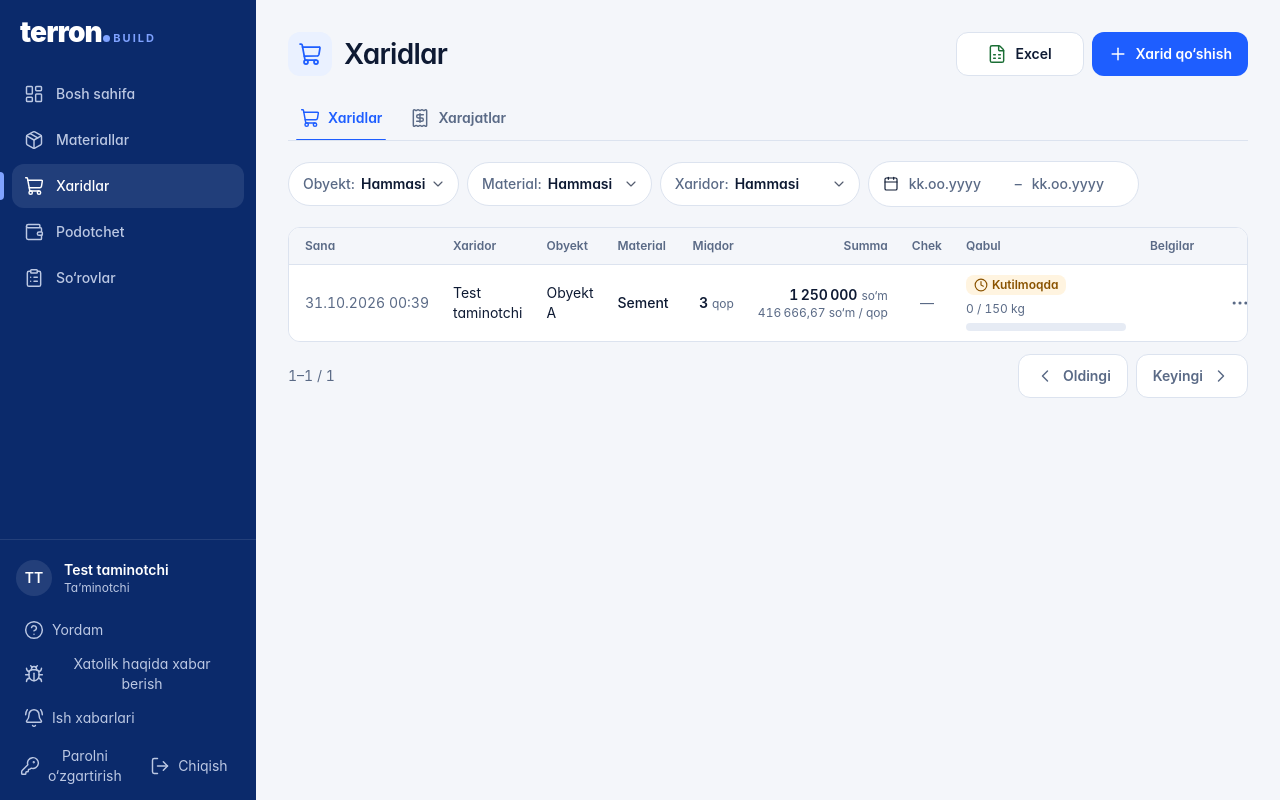
Test: /purchases › muallif (30 daqiqa): "Bekor qilish" — sabab bilan cancel_own_entry
Click the button named "Amallar" at (1240, 303), box [1218,281,1262,325]
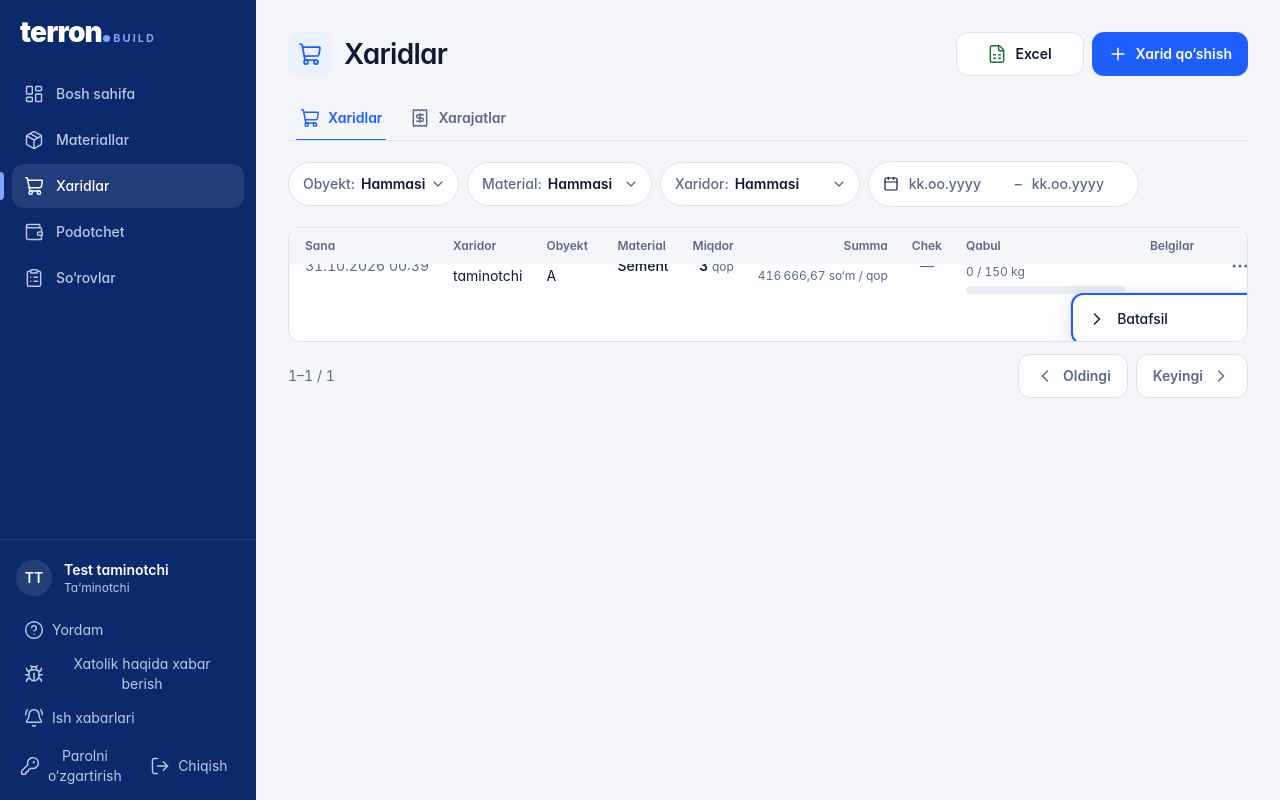
Click the menu item "Batafsil" at (1166, 319), box [1075,297,1257,341]
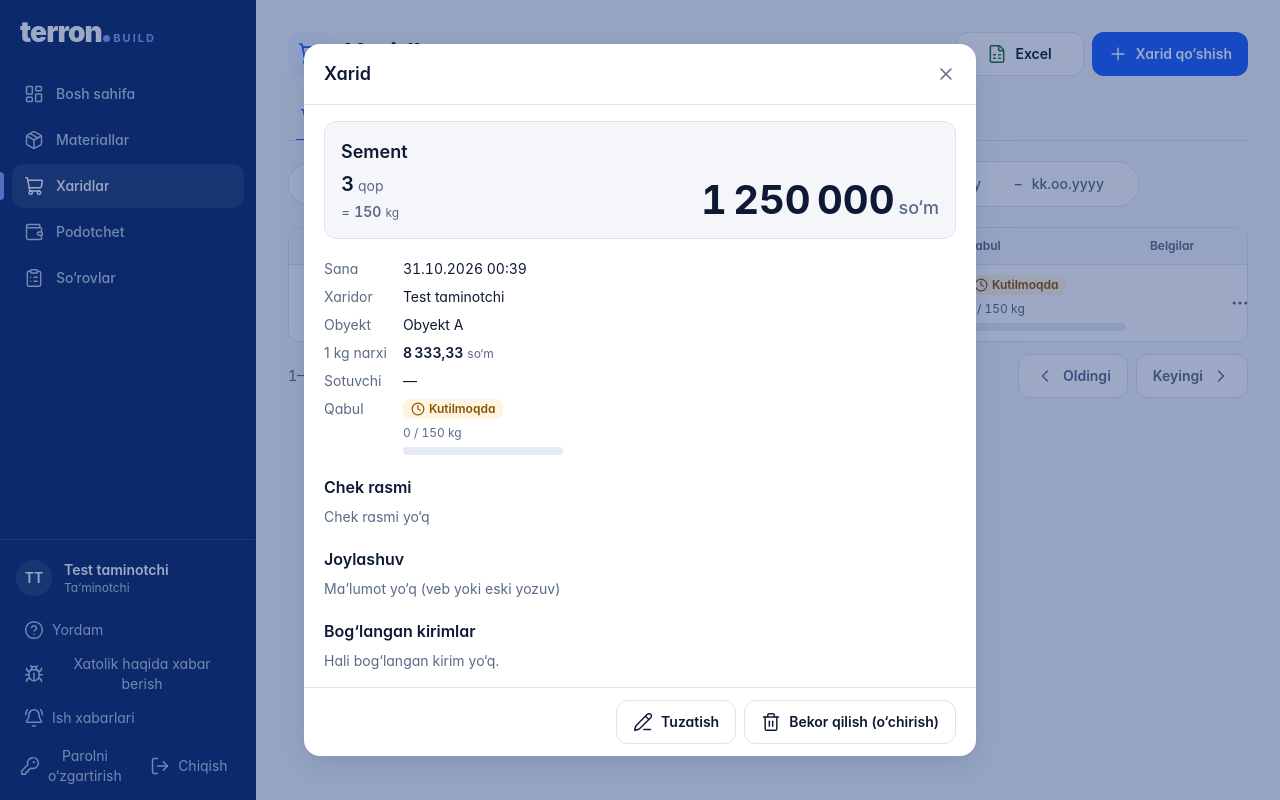
Click the button "Bekor qilish (o‘chirish)" at (850, 722), box [744,700,956,744]
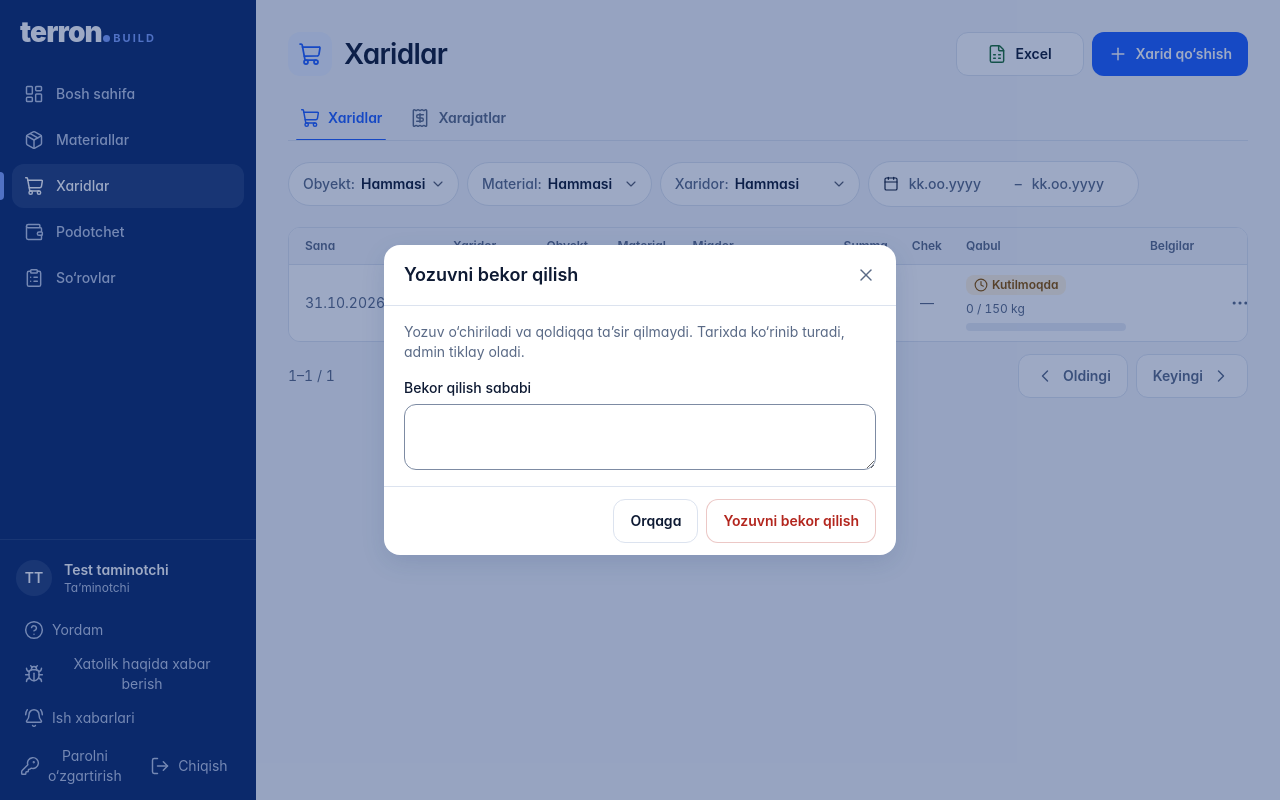
Type "ikki marta" into the text box labelled "Bekor qilish sababi" at (640, 437), box [404,404,876,470]
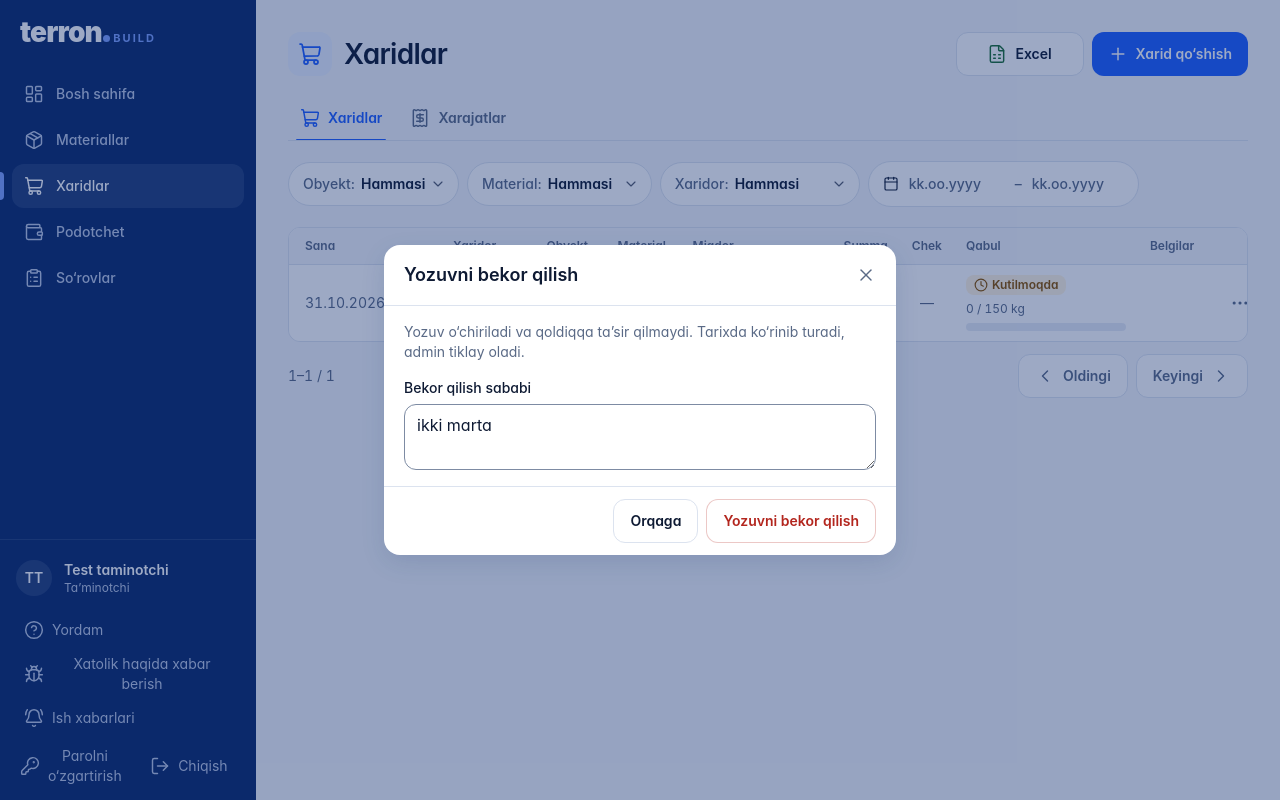
Click the button "Yozuvni bekor qilish" at (791, 521), box [706,499,876,543]
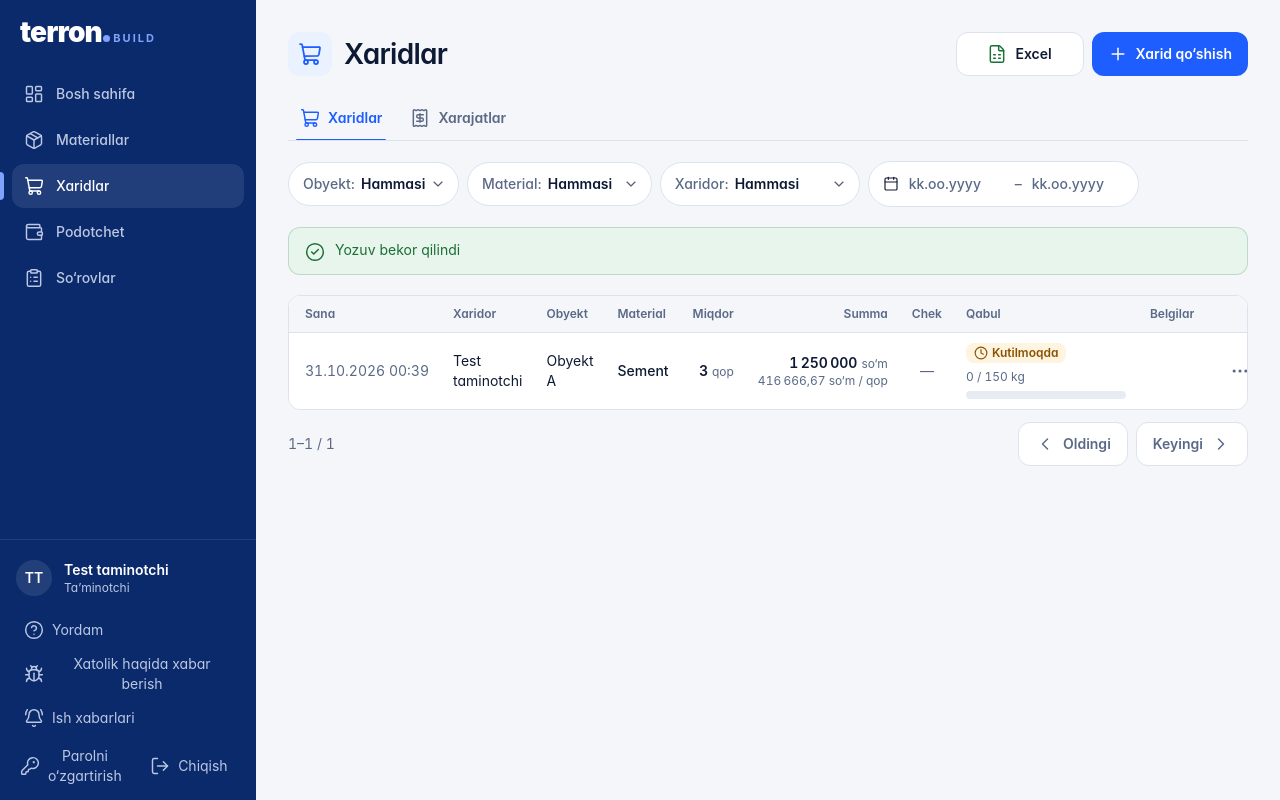
Expected: the text "Yozuv bekor qilindi" is shown, [335,241,460,258]
